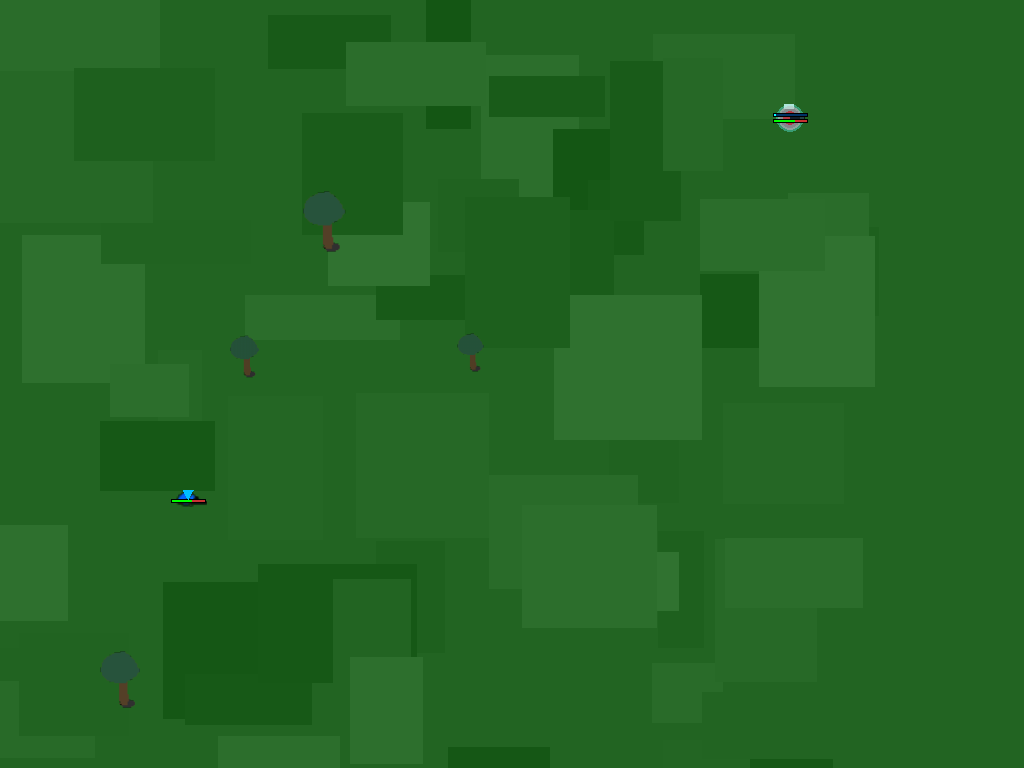Bunker: (770, 98, 804, 138)
Sniper: (168, 478, 208, 518)
